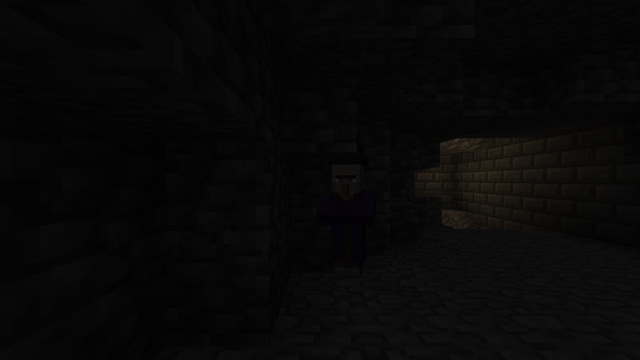sorcieres: (330, 159, 368, 278)
